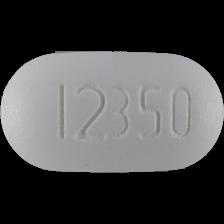13668-281: (0, 0, 224, 224)
